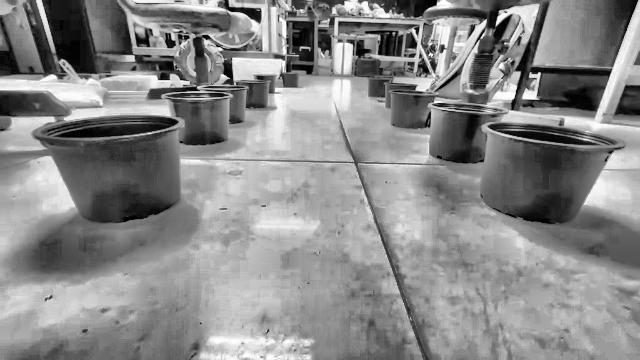pot: (430, 102, 625, 223), (33, 115, 184, 223), (162, 91, 231, 145), (388, 89, 438, 129), (198, 85, 248, 124), (236, 79, 270, 108), (384, 82, 417, 108), (368, 75, 393, 96), (253, 74, 276, 92), (281, 72, 299, 87)
